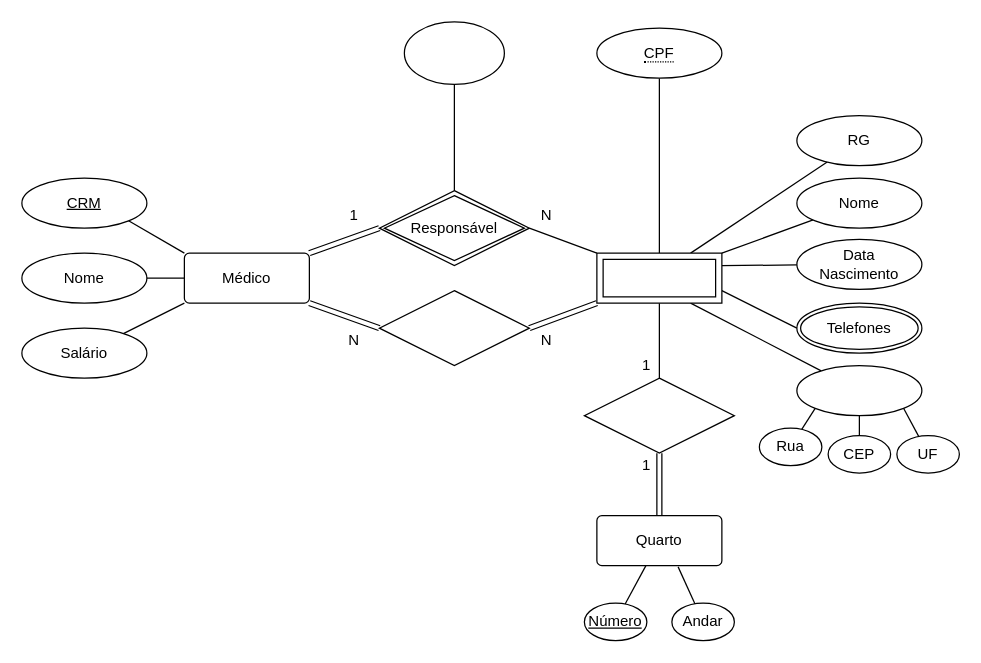
The diagram is 981 pixels wide and 663 high, and some of its shapes have lost their labels. Each missing label, with the centre of its shape:
Endereço: point (859, 390)
Horário de Visita: point (453, 52)
Internado: point (658, 415)
Paciente: point (659, 277)
Participa do Tratamento: point (453, 327)
